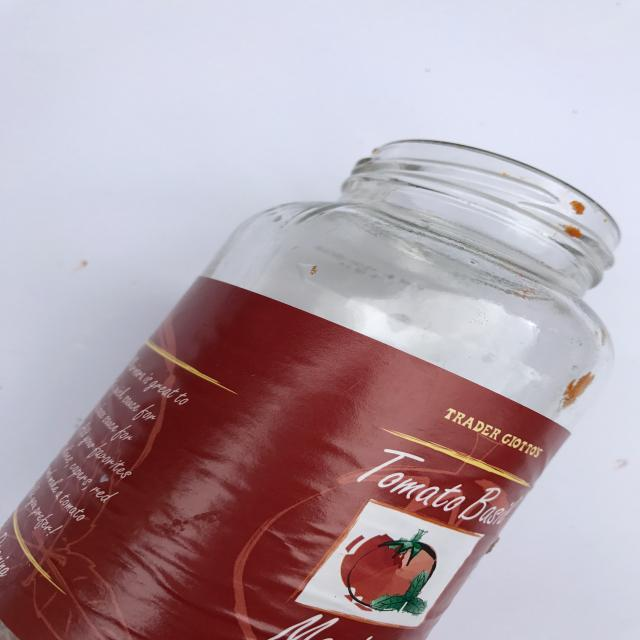glass: (4, 137, 622, 640)
